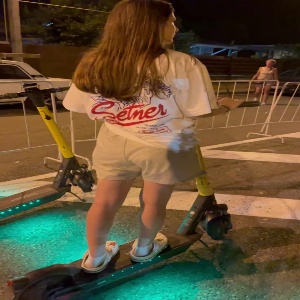human on a scooter: (4, 1, 263, 300)
